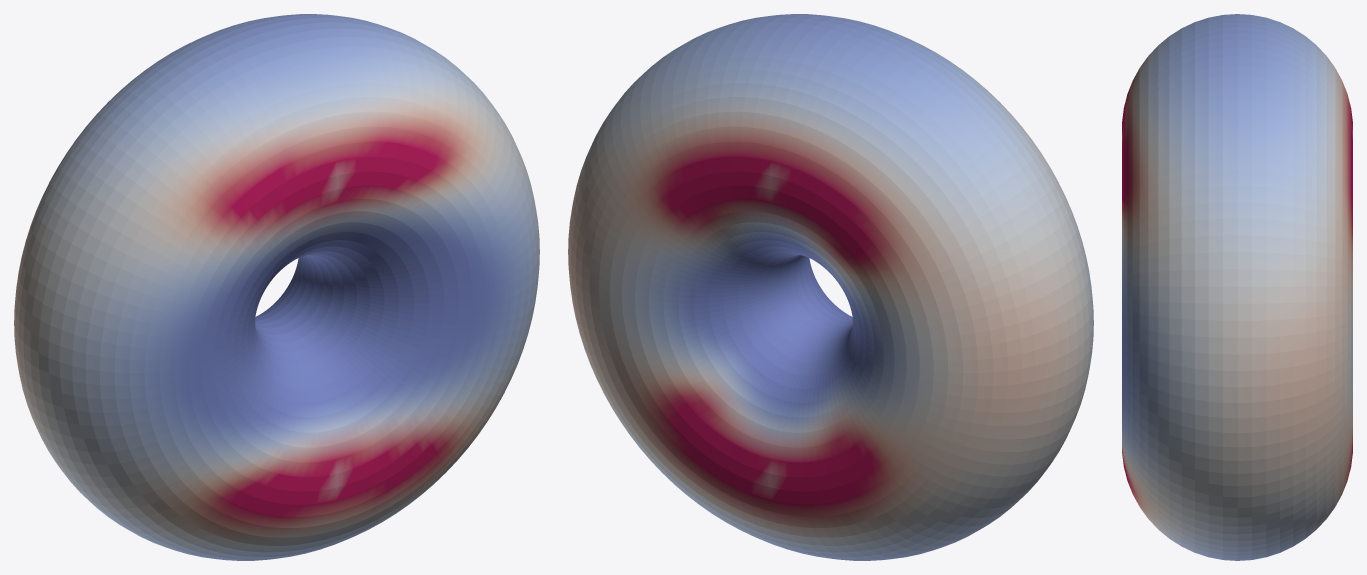
3 renders of one model, left to right at view 1: azimuth 30°, elevation 25°; view 2: azimuth 150°, elevation 25°; view 3: azimuth 270°, elevation 25°, orthographic. The views are drawn at different scales.
Visible parts, largest first — view 1: world; view 2: world; view 3: world.
Part boxes in pixels (<box>): world: <box>14,14,539,560</box>; world: <box>568,14,1093,560</box>; world: <box>1122,14,1352,560</box>.
Bounding box in the file's own units: 17.33 × 17.33 × 7.32.
